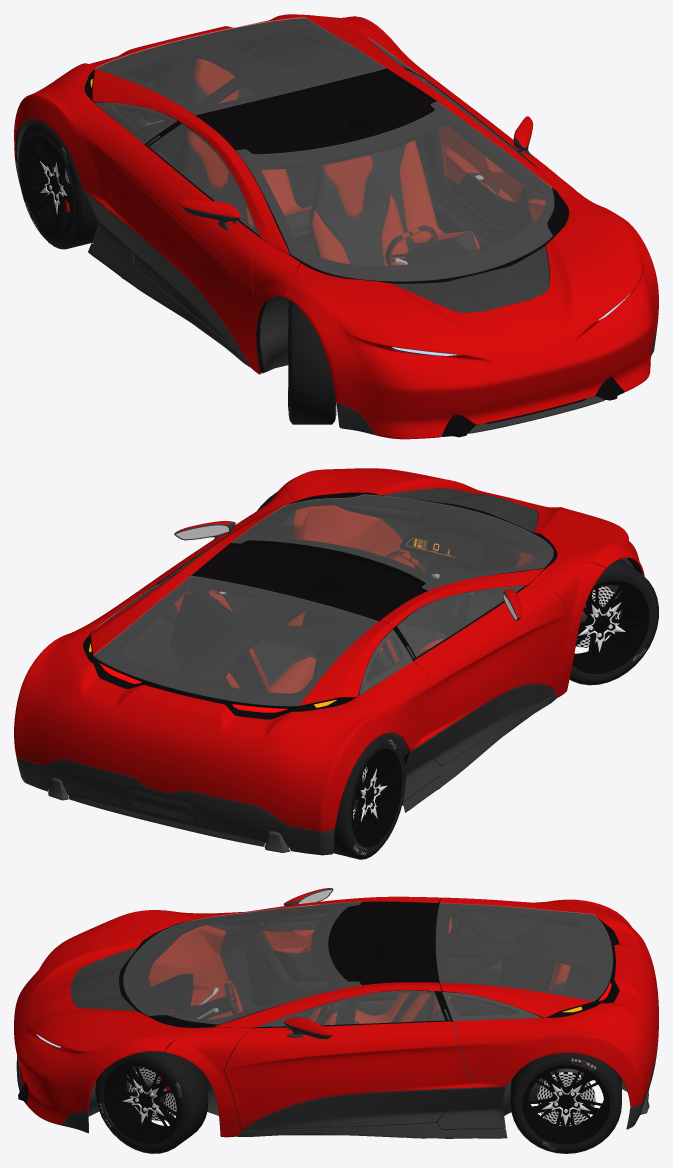
The model's file is Roadster.glb.
3 views of the same model, one above another, from view 1: azimuth 30°, elevation 25°; view 2: azimuth 150°, elevation 25°; view 3: azimuth 270°, elevation 25° (orthographic). The views are drawn at different scales.
Parts seen in each view (by area): view 1: BodyHood, BodyWindshield, InteriorPillar, BodyRearwindow, BodyRearPanelsColor1, BodyDoorRColor1, BodyWindshieldGasket, InteriorSeatsColor1, InteriorSeatsColor2, BodyPillars, InteriorRearHatch, BodyPanelsColor2 (+19 smaller); view 2: BodyRearPanelsColor1, BodyRearwindow, BodyWindshield, InteriorPillar, BodyPanelsColor2, BodyDoorRColor1, BodyHood, BodyWindshieldGasket, InteriorRearHatch, BodyPillars, InteriorDashMid, WheelFrontRRim (+20 smaller); view 3: BodyWindshield, BodyRearPanelsColor1, BodyHood, BodyDoorLColor1, BodyRearwindow, InteriorPillar, BodyPillars, BodyWindshieldGasket, BodyDoorLColor2, BodyPanelsColor2, InteriorRearHatch, WheelFrontL (+23 smaller).
Part boxes in pixels (x1,y1,x2,y2): BodyHood: (286,199,658,439); BodyWindshield: (236,101,554,281); InteriorPillar: (160,38,438,169); BodyRearwindow: (95,17,385,114); BodyRearPanelsColor1: (14,14,433,206); BodyDoorRColor1: (105,144,260,359); BodyWindshieldGasket: (236,102,568,283); InteriorSeatsColor1: (186,59,479,265); InteriorSeatsColor2: (181,78,476,265); BodyPillars: (178,64,604,374); InteriorRearHatch: (94,18,389,121); BodyPanelsColor2: (15,119,657,434); BodyRearPanelsColor1: (14,572,430,831); BodyRearwindow: (93,576,377,705); BodyWindshield: (231,494,553,590); InteriorPillar: (176,544,422,685); BodyPanelsColor2: (16,694,557,855); BodyDoorRColor1: (413,585,568,738); BodyHood: (281,468,644,576); BodyWindshieldGasket: (231,493,557,592); InteriorRearHatch: (94,576,389,710); BodyPillars: (175,487,605,697); InteriorDashMid: (335,501,534,618); WheelFrontRRim: (572,580,649,673); BodyWindshield: (123,902,360,1024); BodyRearPanelsColor1: (440,897,658,1107); BodyHood: (14,910,198,1125); BodyDoorLColor1: (224,1021,471,1131); BodyRearwindow: (436,903,612,1001); InteriorPillar: (325,904,591,1024); BodyPillars: (164,896,441,1137); BodyWindshieldGasket: (119,902,360,1027); BodyDoorLColor2: (242,1088,471,1131); BodyPanelsColor2: (16,1041,658,1138); InteriorRearHatch: (435,903,612,1017); WheelFrontL: (95,1049,208,1153).
Size of the model in its own units: 2.58 by 1.1 by 4.44.
Materials: 22 (5 with a texture image).
